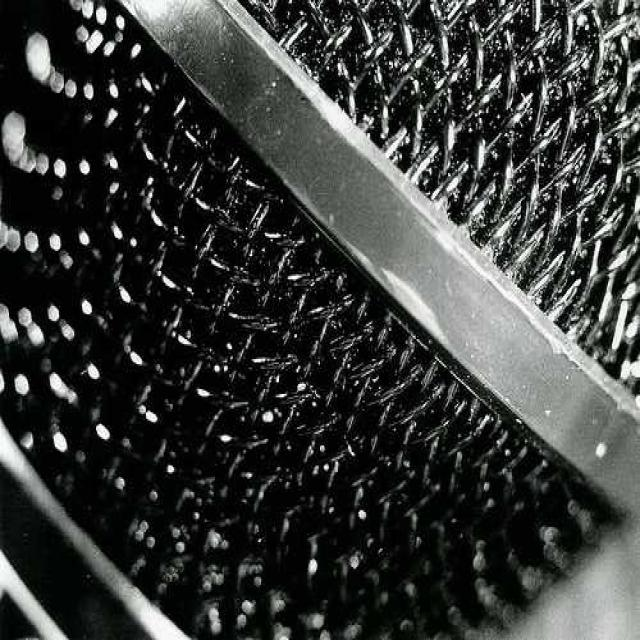microphone: (0, 13, 625, 621)
